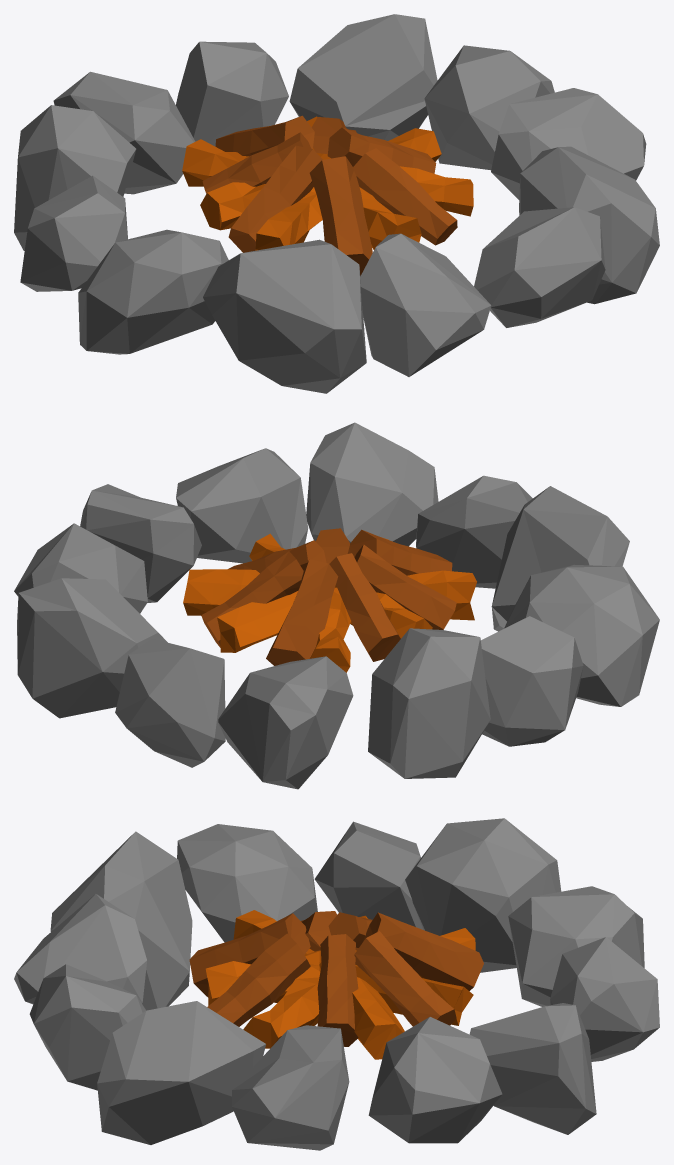
Rendered from Campfire.fbx.
3 renders of one model, top to bottom at view 1: azimuth 30°, elevation 25°; view 2: azimuth 150°, elevation 25°; view 3: azimuth 270°, elevation 25°, orthographic. The views are drawn at different scales.
Parts seen in each view (by area): view 1: Campfire; view 2: Campfire; view 3: Campfire.
Part boxes in pixels (x1,y1,x2,y2): Campfire: [14, 14, 659, 393]; Campfire: [14, 422, 659, 789]; Campfire: [14, 818, 659, 1150].
Bounding box in the file's own units: 668 × 180 × 663.
